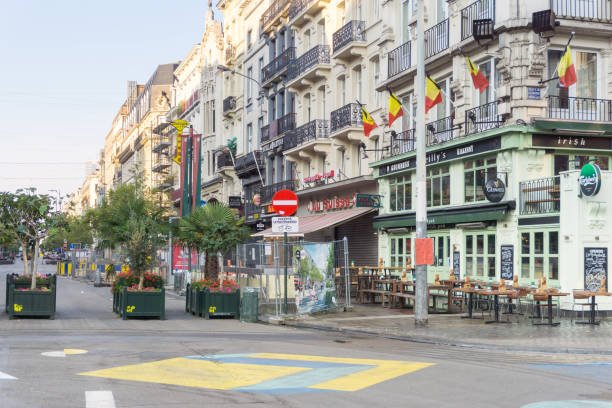Girilmez: (270, 188, 295, 216)
